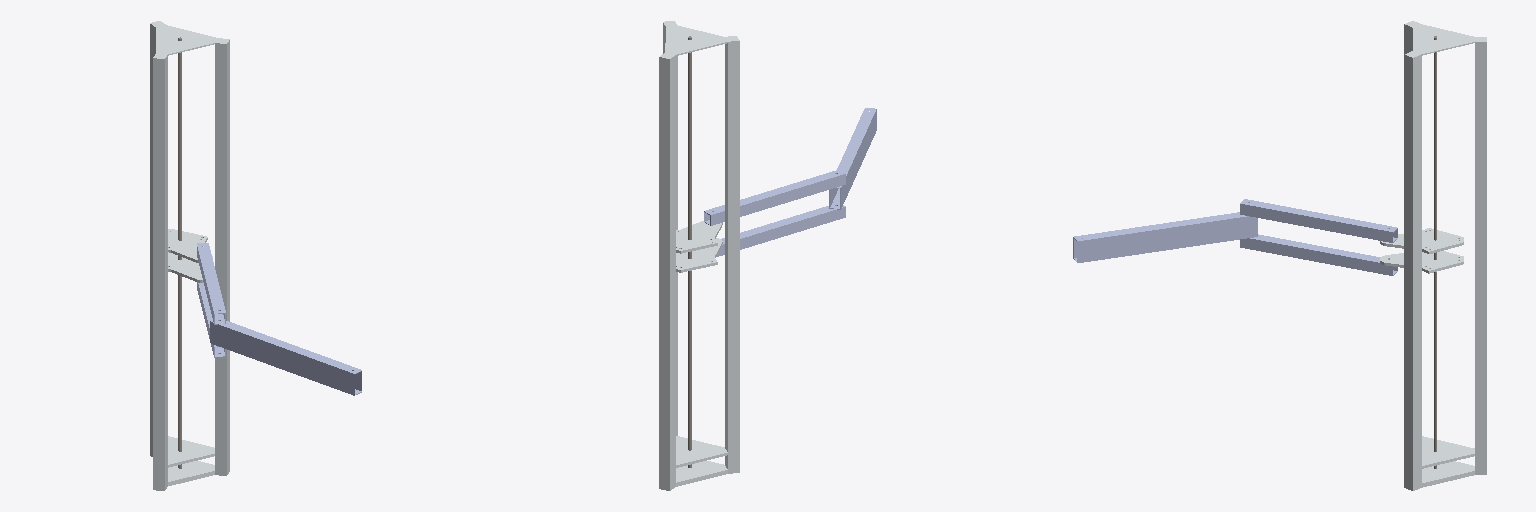
The robot description file, URDF, robot "arm_gl_fea_simplified":
<?xml version="1.0" encoding="utf-8"?>
<!-- This URDF was automatically created by SolidWorks to URDF Exporter! Originally created by [author] ([email redacted]) 
     Commit Version: 1.5.1-0-g916b5db  Build Version: 1.5.7152.31018
     For more information, please see http://wiki.ros.org/sw_urdf_exporter -->
<robot
  name="arm_gl_fea_simplified">
  <link
    name="base_link">
    <inertial>
      <origin
        xyz="0.42345 -0.78175 0.39384"
        rpy="0 0 0" />
      <mass
        value="2.0723" />
      <inertia
        ixx="0.26421"
        ixy="6.1363E-17"
        ixz="-1.9907E-16"
        iyy="0.2632"
        iyz="0.00035409"
        izz="0.013402" />
    </inertial>
    <visual>
      <origin
        xyz="0 0 0"
        rpy="0 0 0" />
      <geometry>
        <mesh
          filename="package://arm_gl_fea_simplified/meshes/base_link.STL" />
      </geometry>
      <material
        name="">
        <color
          rgba="0.89804 0.91765 0.92941 1" />
      </material>
    </visual>
    <collision>
      <origin
        xyz="0 0 0"
        rpy="0 0 0" />
      <geometry>
        <mesh
          filename="package://arm_gl_fea_simplified/meshes/base_link.STL" />
      </geometry>
    </collision>
  </link>
  <link
    name="vertical_link">
    <inertial>
      <origin
        xyz="0 0.5 0"
        rpy="0 0 0" />
      <mass
        value="0.387044214922262" />
      <inertia
        ixx="0.0322552327537149"
        ixy="-1.49590120069303E-36"
        ixz="6.13340385785994E-55"
        iyy="3.0963537193781E-06"
        iyz="-1.61974125244963E-36"
        izz="0.0322552327537149" />
    </inertial>
    <visual>
      <origin
        xyz="0 0 0"
        rpy="0 0 0" />
      <geometry>
        <mesh
          filename="package://arm_gl_fea_simplified/meshes/vertical_link.STL" />
      </geometry>
      <material
        name="">
        <color
          rgba="0.647058823529412 0.619607843137255 0.588235294117647 1" />
      </material>
    </visual>
    <collision>
      <origin
        xyz="0 0 0"
        rpy="0 0 0" />
      <geometry>
        <mesh
          filename="package://arm_gl_fea_simplified/meshes/vertical_link.STL" />
      </geometry>
    </collision>
  </link>
  <joint
    name="vertical_joint"
    type="fixed">
    <origin
      xyz="0.423450362301353 -0.782708702943532 0.0396698439511794"
      rpy="1.5707963267949 0 0" />
    <parent
      link="base_link" />
    <child
      link="vertical_link" />
    <axis
      xyz="0 0 0" />
  </joint>
  <link
    name="platter_link">
    <inertial>
      <origin
        xyz="-0.0235662692170292 0.025399999949718 0"
        rpy="0 0 0" />
      <mass
        value="0.398296145349297" />
      <inertia
        ixx="0.000214682110310005"
        ixy="-1.52488269497031E-12"
        ixz="1.1659937580349E-18"
        iyy="0.00092936740729898"
        iyz="2.76913256258746E-19"
        izz="0.00071736201304245" />
    </inertial>
    <visual>
      <origin
        xyz="0 0 0"
        rpy="0 0 0" />
      <geometry>
        <mesh
          filename="package://arm_gl_fea_simplified/meshes/platter_link.STL" />
      </geometry>
      <material
        name="">
        <color
          rgba="0.898039215686275 0.917647058823529 0.929411764705882 1" />
      </material>
    </visual>
    <collision>
      <origin
        xyz="0 0 0"
        rpy="0 0 0" />
      <geometry>
        <mesh
          filename="package://arm_gl_fea_simplified/meshes/platter_link.STL" />
      </geometry>
    </collision>
  </link>
  <joint
    name="platter_joint"
    type="prismatic">
    <origin
      xyz="0 0.53251 0"
      rpy="-1.5708 1.5708 1.5708" />
    <parent
      link="vertical_link" />
    <child
      link="platter_link" />
    <axis
      xyz="0 -1 0" />
    <limit
      lower="-1"
      upper="1"
      effort="1"
      velocity="0.5" />
  </joint>
  <link
    name="shoulder_link">
    <inertial>
      <origin
        xyz="0.0127000003051759 -0.0254000053166686 0.174999999206176"
        rpy="0 0 0" />
      <mass
        value="0.105597198583122" />
      <inertia
        ixx="0.00108414506305135"
        ixy="-4.20665938749841E-16"
        ixz="-1.99052742604761E-18"
        iyy="0.00108418007531679"
        iyz="3.32568535185555E-11"
        izz="2.00593657995657E-05" />
    </inertial>
    <visual>
      <origin
        xyz="0 0 0"
        rpy="0 0 0" />
      <geometry>
        <mesh
          filename="package://arm_gl_fea_simplified/meshes/shoulder_link.STL" />
      </geometry>
      <material
        name="">
        <color
          rgba="0.792156862745098 0.819607843137255 0.933333333333333 1" />
      </material>
    </visual>
    <collision>
      <origin
        xyz="0 0 0"
        rpy="0 0 0" />
      <geometry>
        <mesh
          filename="package://arm_gl_fea_simplified/meshes/shoulder_link.STL" />
      </geometry>
    </collision>
  </link>
  <joint
    name="shoulder_joint"
    type="continuous">
    <origin
      xyz="-0.0782449948367555 0 0.00551040839348338"
      rpy="0 1.15241714978897 3.14159262615075" />
    <parent
      link="platter_link" />
    <child
      link="shoulder_link" />
    <axis
      xyz="0 1 0" />
  </joint>
  <link
    name="elbow_link">
    <inertial>
      <origin
        xyz="7.65777941058587E-10 -0.0254000026946232 0.184999999630036"
        rpy="0 0 0" />
      <mass
        value="0.0926170680415613" />
      <inertia
        ixx="0.0012631837987792"
        ixy="6.202690042249E-13"
        ixz="-6.48657831007343E-18"
        iyy="0.00124261014014764"
        iyz="1.74989527473706E-11"
        izz="4.12154752797879E-05" />
    </inertial>
    <visual>
      <origin
        xyz="0 0 0"
        rpy="0 0 0" />
      <geometry>
        <mesh
          filename="package://arm_gl_fea_simplified/meshes/elbow_link.STL" />
      </geometry>
      <material
        name="">
        <color
          rgba="0.792156862745098 0.819607843137255 0.933333333333333 1" />
      </material>
    </visual>
    <collision>
      <origin
        xyz="0 0 0"
        rpy="0 0 0" />
      <geometry>
        <mesh
          filename="package://arm_gl_fea_simplified/meshes/elbow_link.STL" />
      </geometry>
    </collision>
  </link>
  <joint
    name="elbow_joint"
    type="continuous">
    <origin
      xyz="0.0126999999999996 0 0.335000000000001"
      rpy="0 0.753722210653423 0" />
    <parent
      link="shoulder_link" />
    <child
      link="elbow_link" />
    <axis
      xyz="0 0.999999999999999 0" />
  </joint>
</robot>

--- Facts derived from the render (not from the file) ---
The picture shows the robot from 3 angles, left to right: view 1: azimuth 30°, elevation 25°; view 2: azimuth 150°, elevation 25°; view 3: azimuth 270°, elevation 25°; orthographic projection.
Robot: arm_gl_fea_simplified — 5 links, 4 joints (2 continuous, 1 prismatic, 1 fixed); root link base_link; default pose: all joints at 0.
Links seen in each view (by area): view 1: base_link, elbow_link, shoulder_link, vertical_link, platter_link; view 2: base_link, shoulder_link, elbow_link, platter_link, vertical_link; view 3: base_link, shoulder_link, elbow_link, platter_link, vertical_link.
Boxes of the visible links, x1,y1,x2,y2 form: base_link: (150, 21, 229, 490); elbow_link: (210, 320, 361, 395); shoulder_link: (197, 243, 225, 357); vertical_link: (178, 37, 181, 468); platter_link: (168, 229, 212, 282); base_link: (659, 21, 739, 490); shoulder_link: (704, 170, 845, 256); elbow_link: (829, 108, 876, 209); platter_link: (676, 221, 722, 272); vertical_link: (688, 36, 691, 467); base_link: (1404, 21, 1486, 490); shoulder_link: (1240, 199, 1397, 275); elbow_link: (1073, 212, 1257, 262); platter_link: (1380, 228, 1463, 273); vertical_link: (1434, 36, 1436, 468).
Size in the robot's own frame: 0.2407 by 0.8642 by 1 metres.
Meshes: 5 distinct files referenced, 5 mesh visuals loaded (5 binary STL).